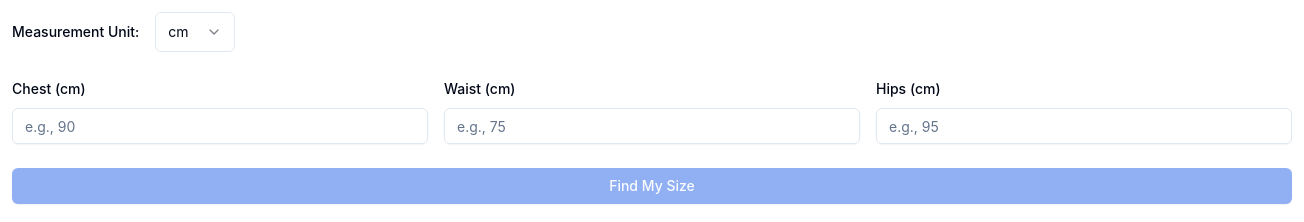
Scenario: FitFinder › should enable find button when measurement entered
Type "90" into the number field with test id "input-chest" at (220, 126), box [12,108,428,144]
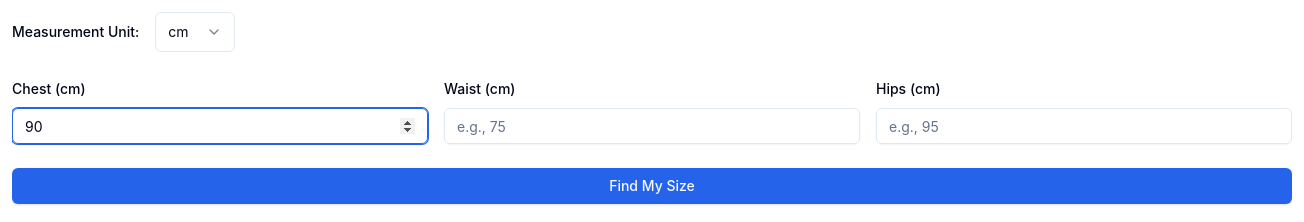
Expected: the button with test id "find-size-button" is enabled, [12,168,1292,204]
